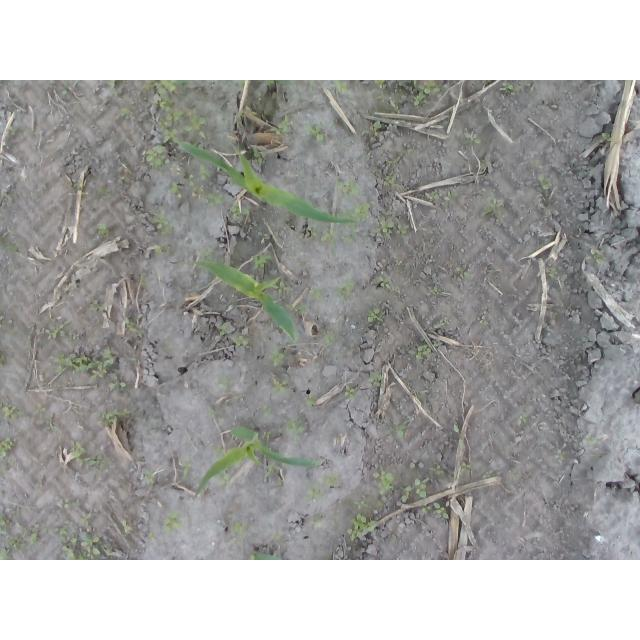Maize: (178, 137, 354, 223), (181, 259, 299, 342), (195, 425, 325, 495), (248, 548, 281, 560)
Weeds: (185, 174, 223, 207), (61, 536, 111, 561), (74, 349, 114, 380), (151, 95, 185, 126), (338, 202, 371, 231), (44, 316, 78, 344), (347, 514, 378, 542), (411, 80, 441, 106), (373, 465, 396, 496), (96, 408, 132, 427), (403, 478, 430, 503), (185, 110, 208, 139), (373, 210, 395, 240), (143, 80, 189, 94), (480, 197, 505, 221), (147, 146, 170, 169), (335, 179, 361, 199), (152, 213, 174, 236), (124, 313, 144, 338), (164, 511, 185, 533), (270, 115, 291, 136), (305, 481, 324, 504), (1, 231, 20, 254), (287, 416, 305, 440), (54, 352, 74, 373), (337, 279, 356, 300), (71, 439, 86, 465), (0, 437, 16, 461), (409, 344, 432, 360), (230, 201, 250, 219), (433, 500, 451, 520), (321, 227, 338, 248), (251, 252, 272, 269), (378, 276, 400, 292), (0, 402, 20, 419), (585, 248, 605, 265), (388, 421, 409, 437), (117, 164, 134, 183), (252, 147, 269, 166), (306, 124, 325, 141), (89, 454, 108, 470), (268, 348, 284, 367), (6, 535, 26, 550), (270, 279, 290, 294), (163, 128, 180, 145), (395, 149, 414, 164), (537, 175, 552, 194), (378, 93, 398, 107), (453, 424, 464, 449), (90, 223, 108, 238), (463, 131, 482, 145), (272, 379, 289, 394), (108, 375, 125, 390), (238, 105, 258, 117), (216, 473, 233, 487), (120, 519, 132, 538), (233, 521, 248, 536), (369, 373, 384, 388), (367, 309, 383, 323), (217, 374, 231, 390), (80, 510, 93, 527), (332, 80, 349, 93), (182, 454, 193, 474), (499, 81, 517, 93), (325, 473, 340, 487), (383, 173, 398, 187), (29, 524, 40, 543), (155, 244, 174, 255), (212, 445, 225, 461), (370, 120, 383, 136), (582, 434, 598, 447), (170, 182, 182, 199), (231, 336, 249, 347), (201, 248, 216, 261), (265, 466, 279, 479), (34, 403, 46, 418), (285, 304, 305, 313), (353, 500, 369, 511), (345, 384, 356, 400), (304, 392, 317, 405), (305, 226, 318, 239), (70, 178, 83, 191), (144, 469, 156, 483), (91, 300, 105, 312), (54, 525, 69, 536), (430, 465, 446, 475), (456, 267, 472, 277), (424, 191, 440, 201), (60, 497, 73, 509), (309, 286, 322, 298), (199, 165, 210, 179), (341, 233, 355, 244), (1, 515, 8, 536), (518, 413, 530, 425), (59, 82, 70, 95), (434, 319, 447, 330), (207, 405, 217, 419), (443, 190, 457, 200), (311, 518, 326, 527), (421, 227, 440, 234), (262, 404, 273, 416), (461, 461, 472, 473), (478, 315, 490, 326), (0, 548, 10, 561), (396, 224, 409, 234), (158, 118, 169, 129), (325, 333, 336, 344), (555, 450, 566, 461), (600, 133, 612, 143), (374, 80, 387, 89), (428, 286, 442, 294), (98, 188, 111, 196), (218, 325, 227, 336), (549, 267, 558, 278), (508, 469, 517, 479), (261, 430, 272, 438), (140, 276, 148, 287), (106, 80, 117, 88), (272, 531, 281, 540), (421, 504, 431, 512), (483, 470, 493, 478), (163, 342, 174, 349), (479, 160, 488, 168), (148, 532, 157, 540), (49, 423, 57, 432), (4, 192, 13, 200), (121, 107, 128, 117), (258, 231, 269, 237), (9, 126, 16, 134), (386, 161, 394, 168), (0, 353, 4, 366), (391, 534, 398, 541), (257, 91, 264, 98), (0, 467, 8, 473), (310, 80, 317, 86), (396, 260, 403, 266), (128, 357, 136, 361), (1, 315, 4, 325), (433, 344, 439, 349), (372, 169, 376, 174)
